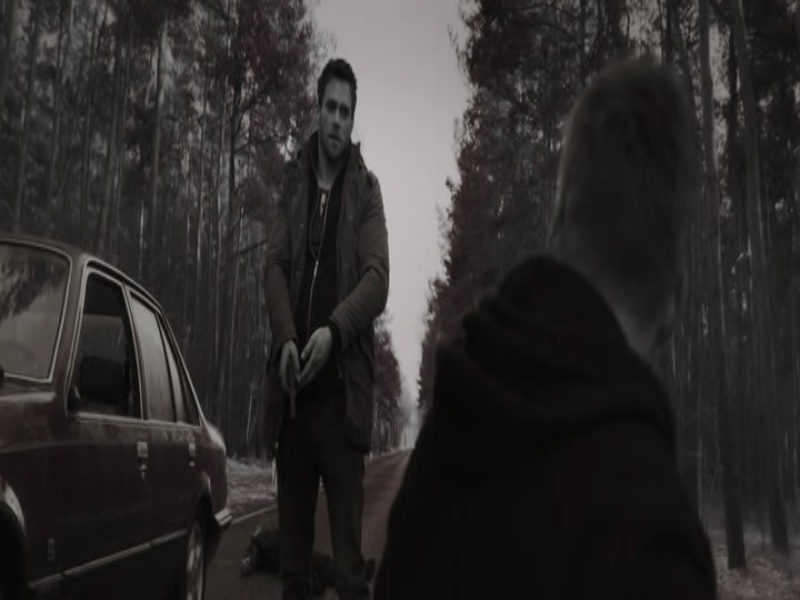TsisyArotava: (309, 55, 366, 167)
